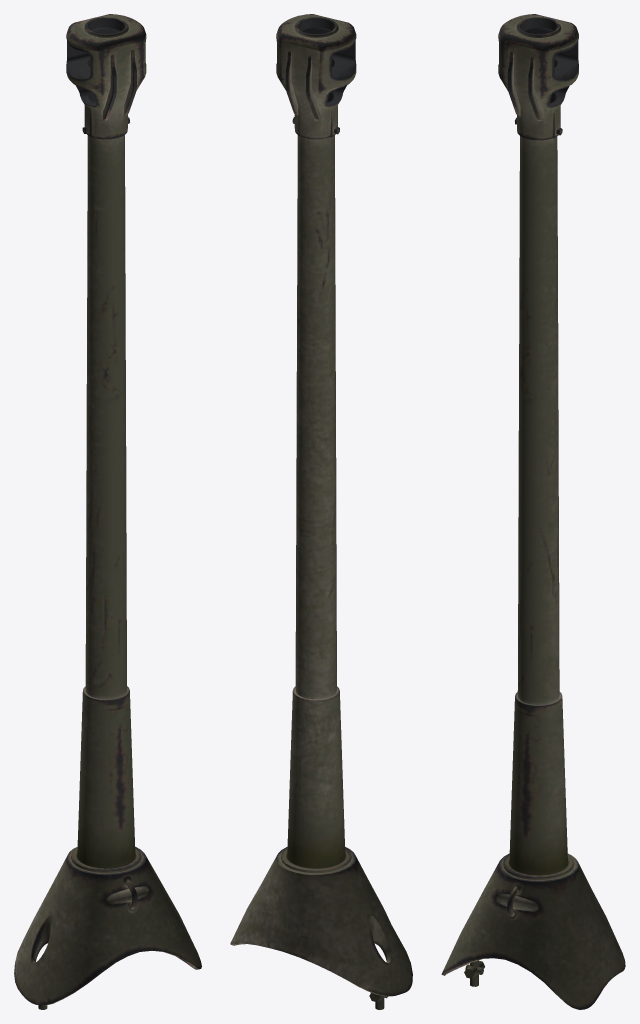
Rendered from Gun_02.glb.
3 renders of one model, left to right at view 1: azimuth 30°, elevation 25°; view 2: azimuth 150°, elevation 25°; view 3: azimuth 330°, elevation 25°, orthographic.
Parts seen in each view (by area): view 1: set_0_group_0; view 2: set_0_group_0; view 3: set_0_group_0.
Part boxes in pixels (x1,y1,x2,y2): set_0_group_0: (14,14,201,1009); set_0_group_0: (230,14,412,1009); set_0_group_0: (441,14,625,1009).
Size of the model in its own units: 0.8461 by 4.87 by 0.6059.
1 material, 1 textured.
